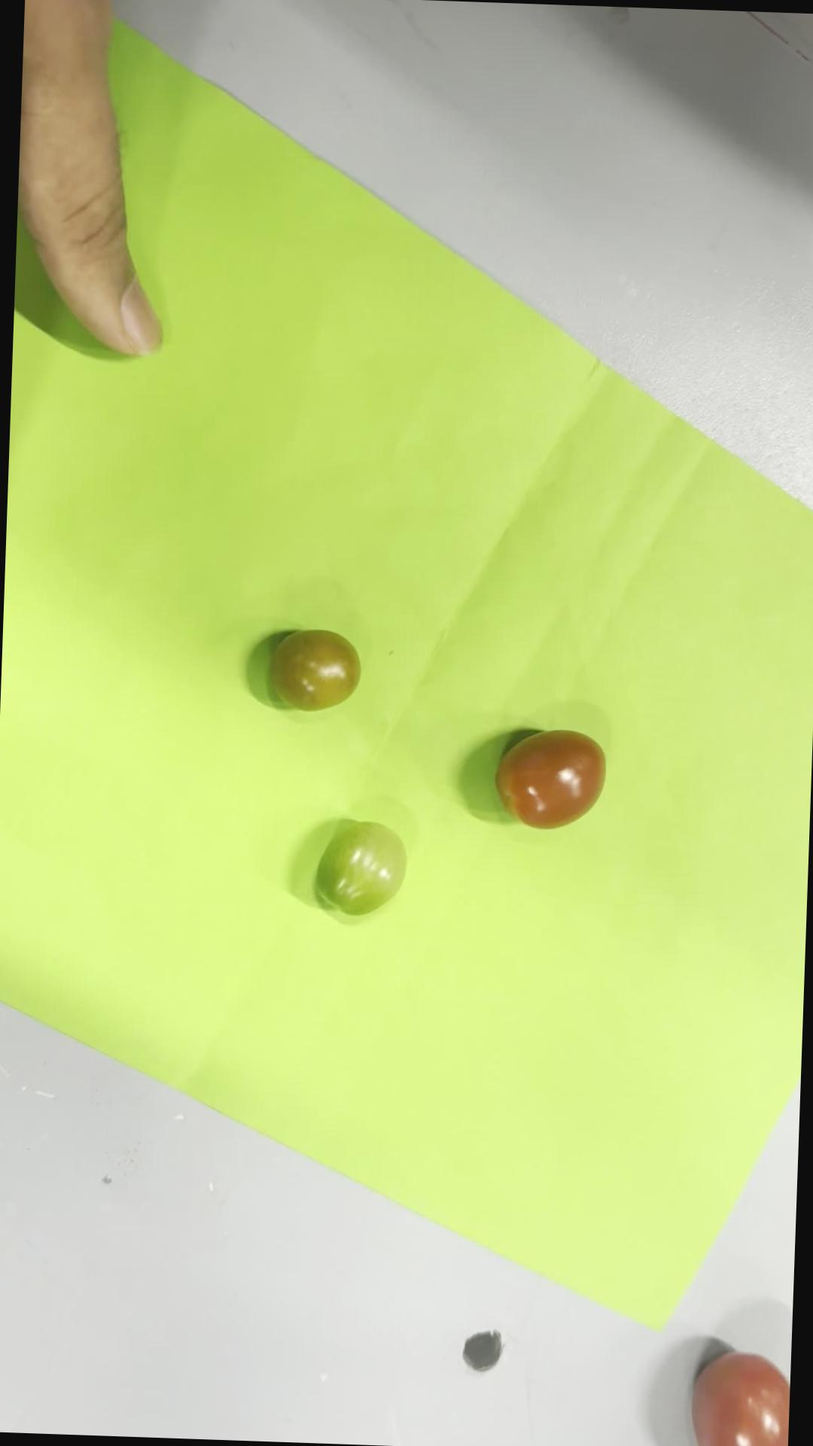green_cherry_tomato: (317, 822, 406, 916)
red_cherry_tomato: (496, 730, 605, 828)
yellow_cherry_tomato: (270, 630, 360, 711)
